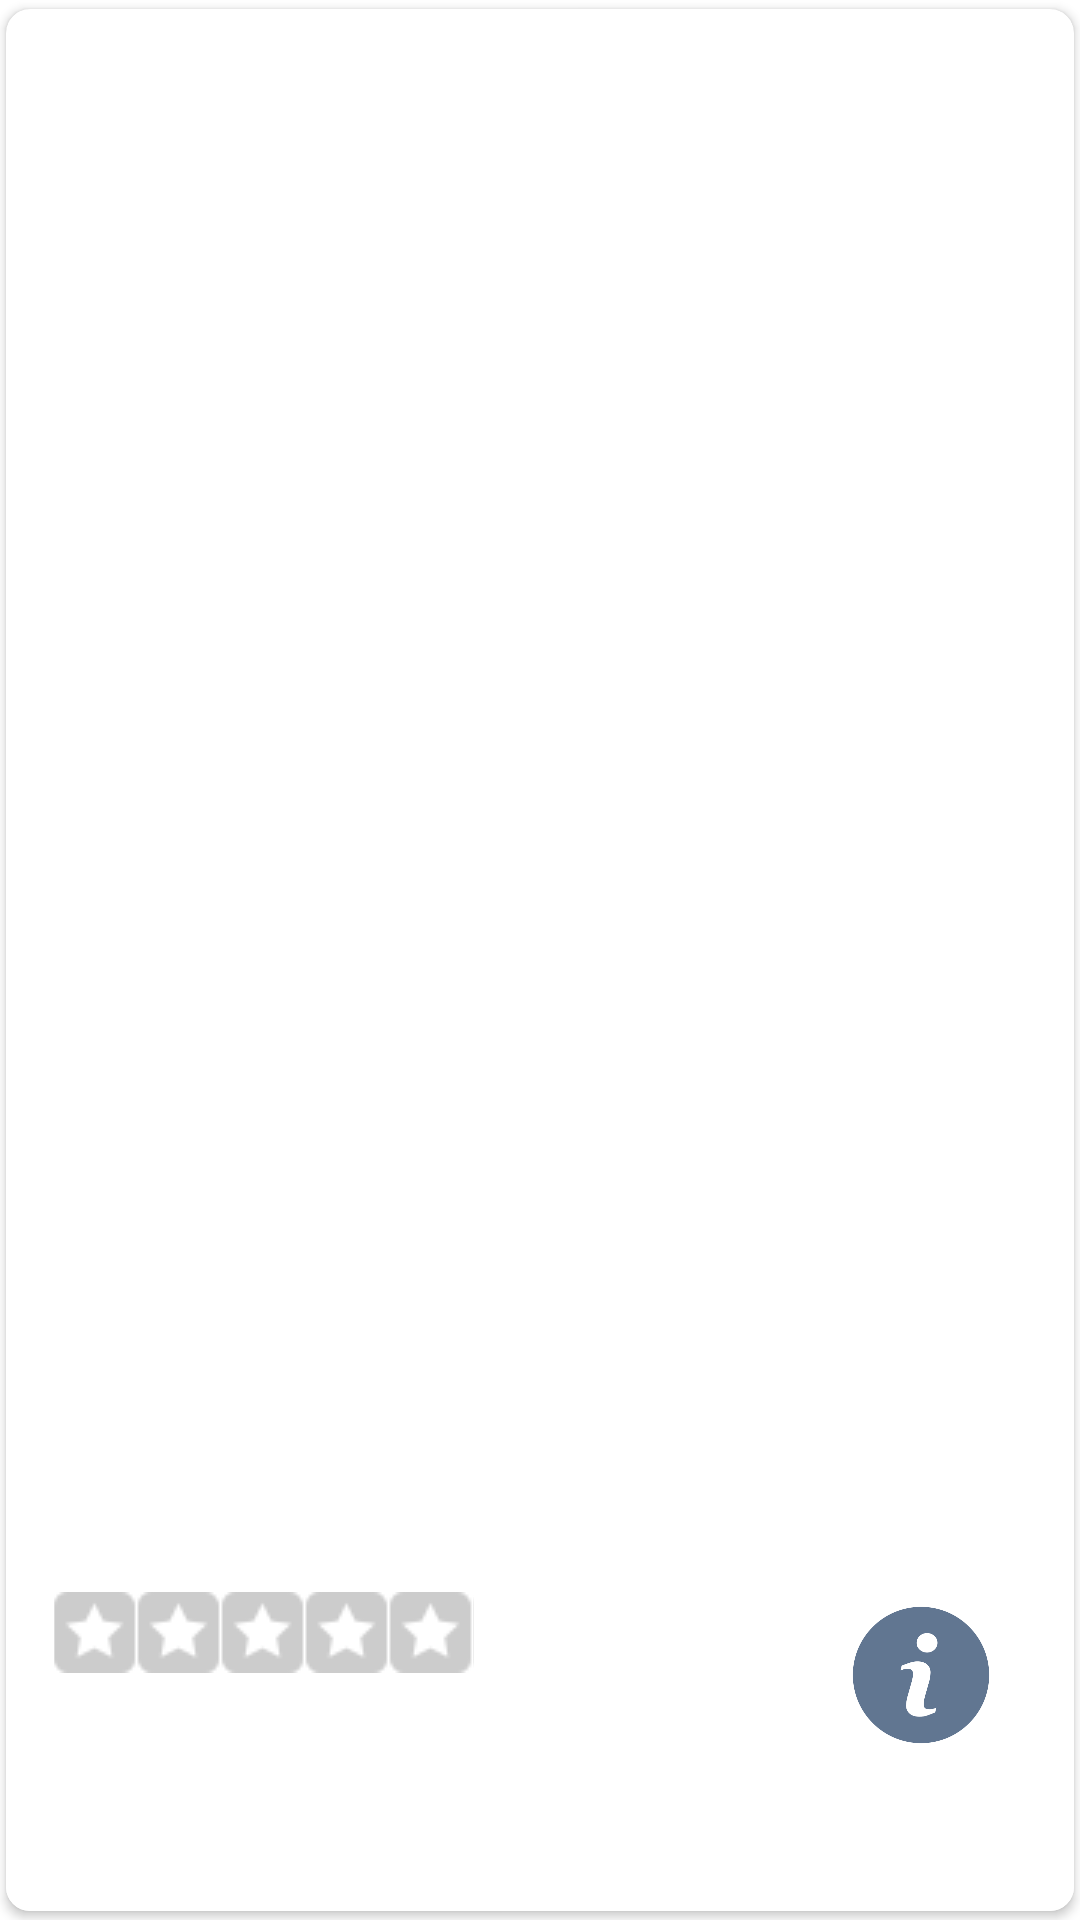

Named icons in this screenshot (1080*1920) and their bounding boxes, (x1, y1, x2, y2):
info: (853, 1607, 989, 1743)
